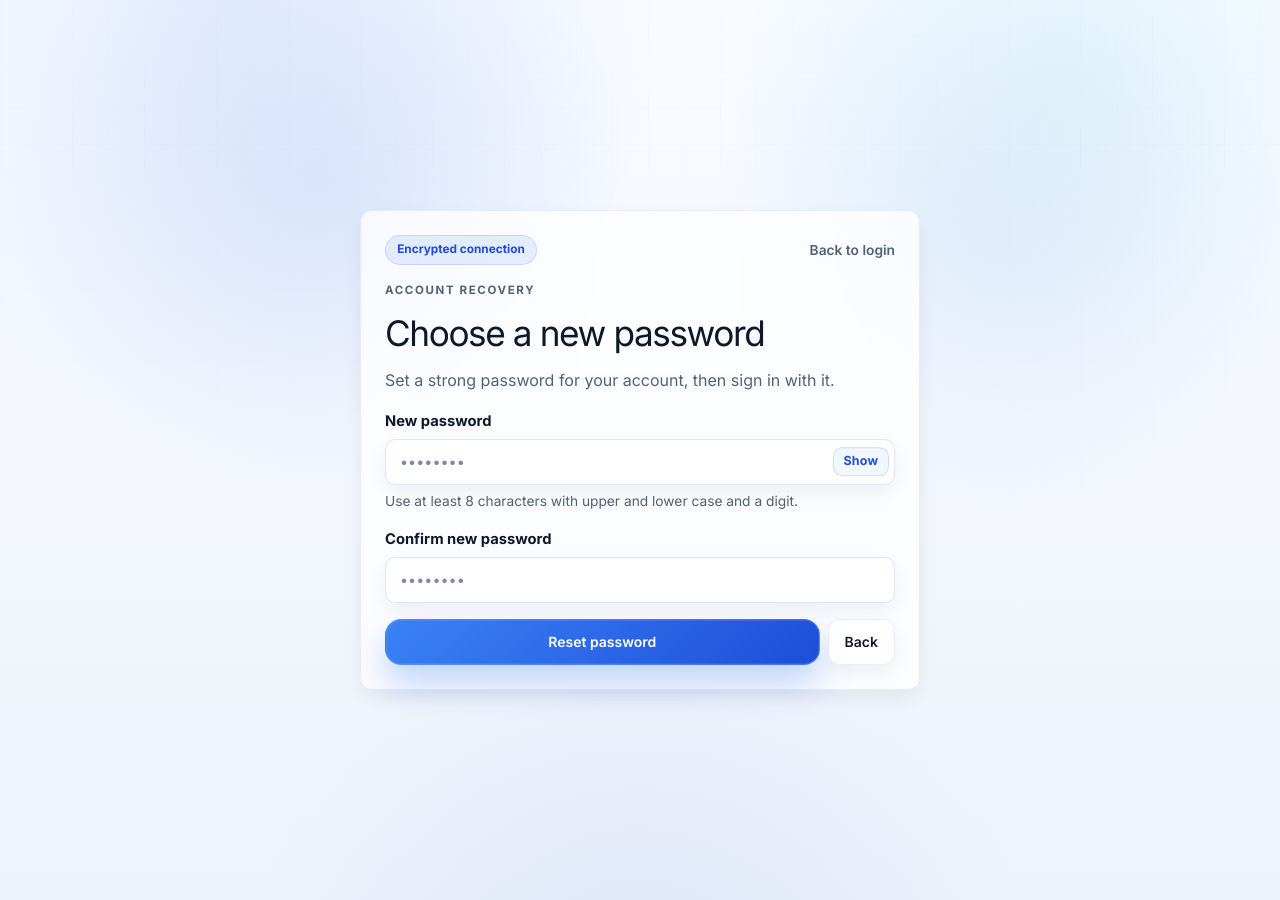
Test case: PasswordResetRoutePage › validates weak and mismatched passwords
This screenshot has width=1280, height=900.
In the password field labelled "New password": (640, 462) [385,439,895,485], type "weak"
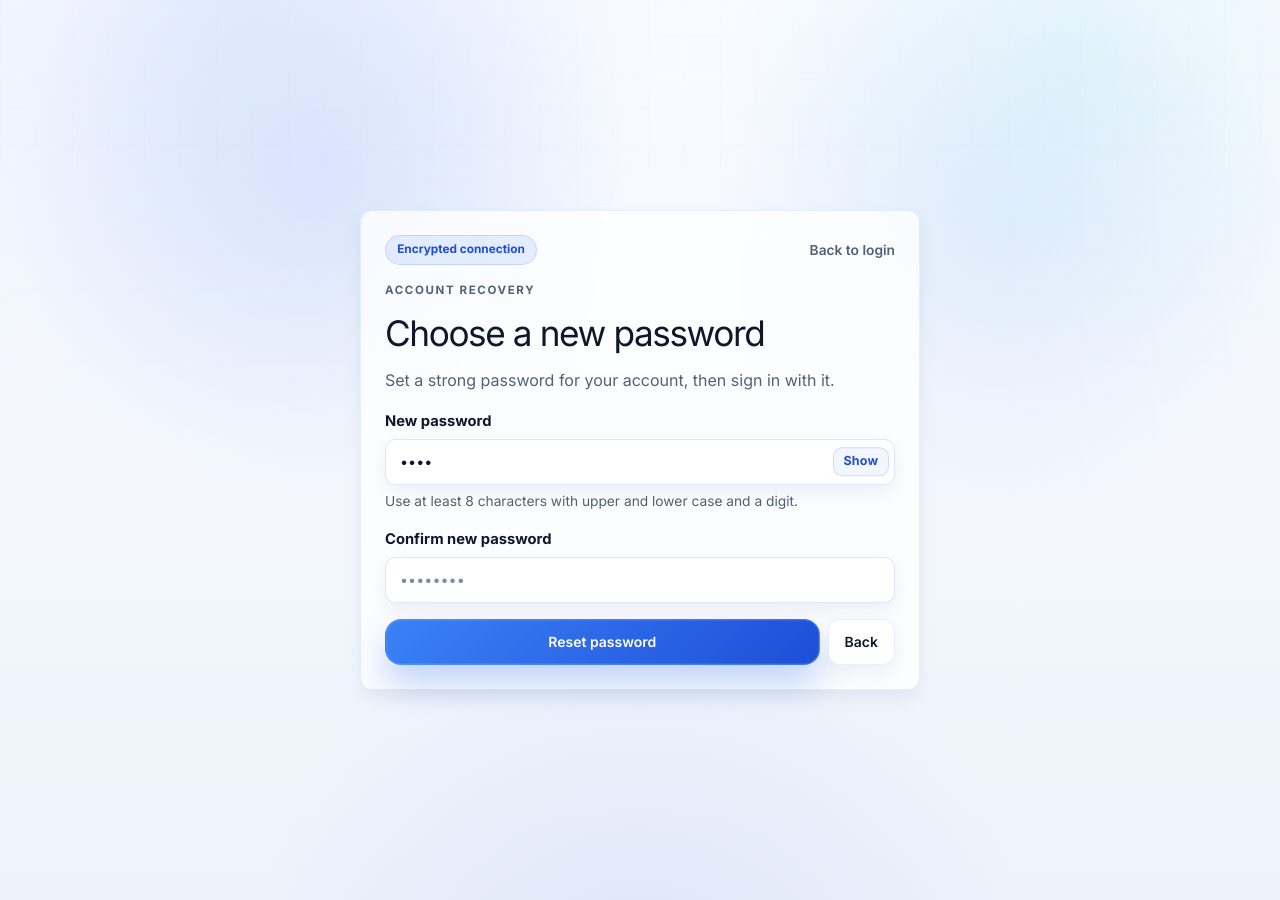
In the password field labelled "Confirm new password": (640, 580) [385,557,895,603], type "different"
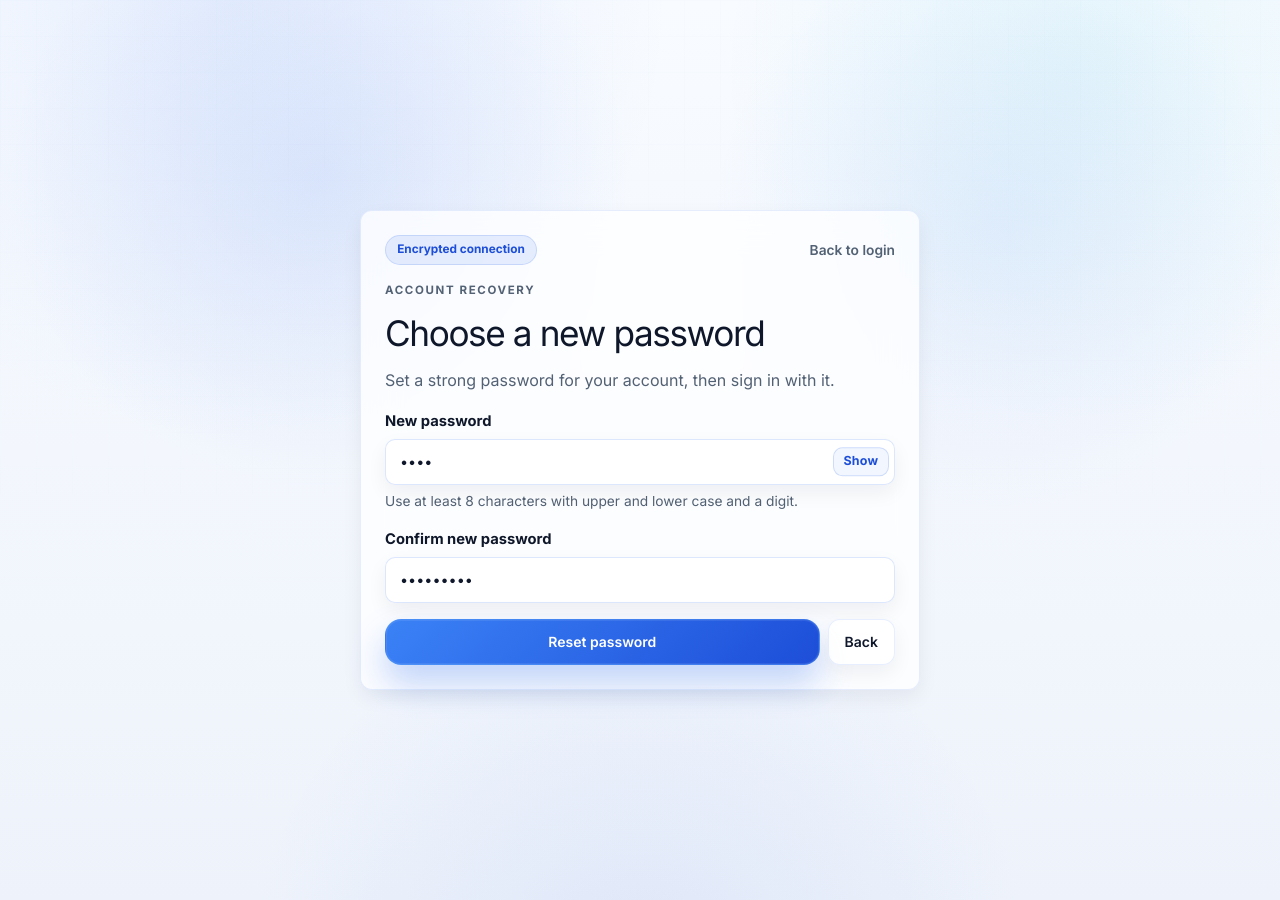
Click the button "Reset password": (602, 642) [385,619,820,665]
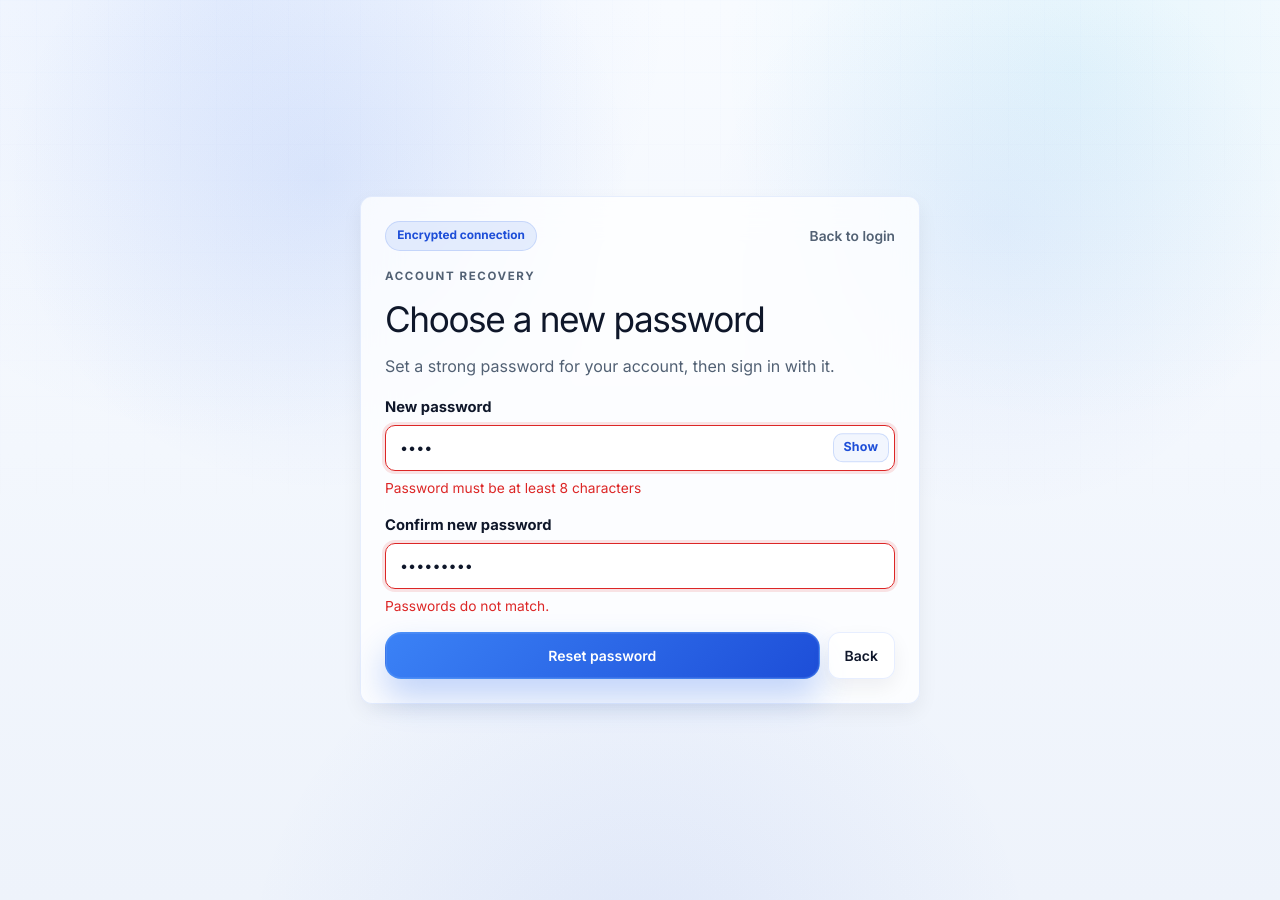
Check: the text "Password must be at least 8 characters" is shown, box [385,480,641,496]
